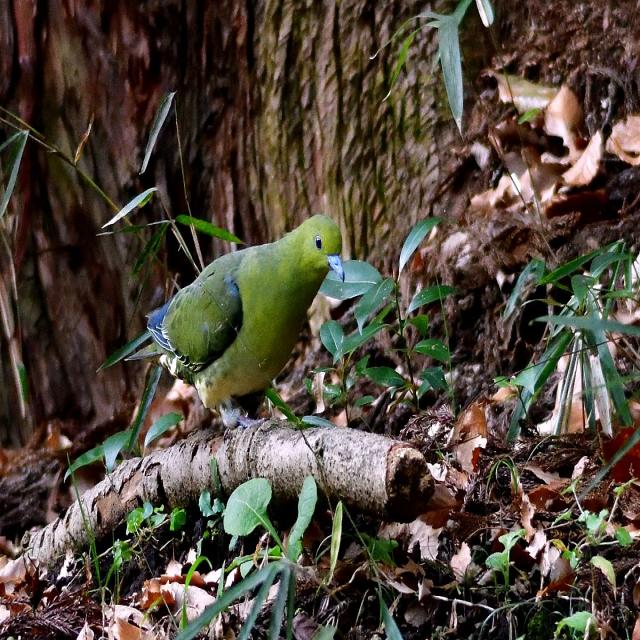bird: (121, 206, 348, 432), (94, 592, 150, 638)
